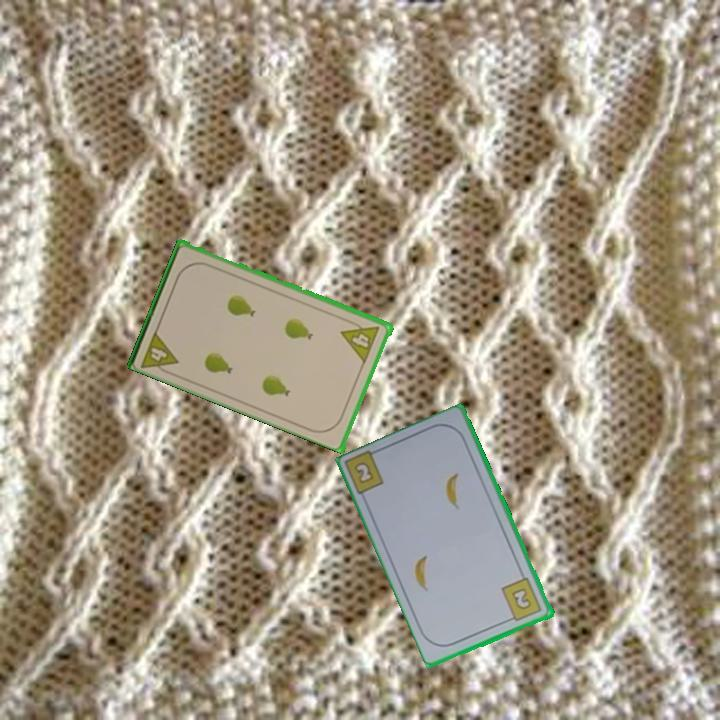2b: (498, 574, 545, 625), (351, 458, 377, 487)
4p: (137, 326, 182, 379), (338, 315, 383, 365)
